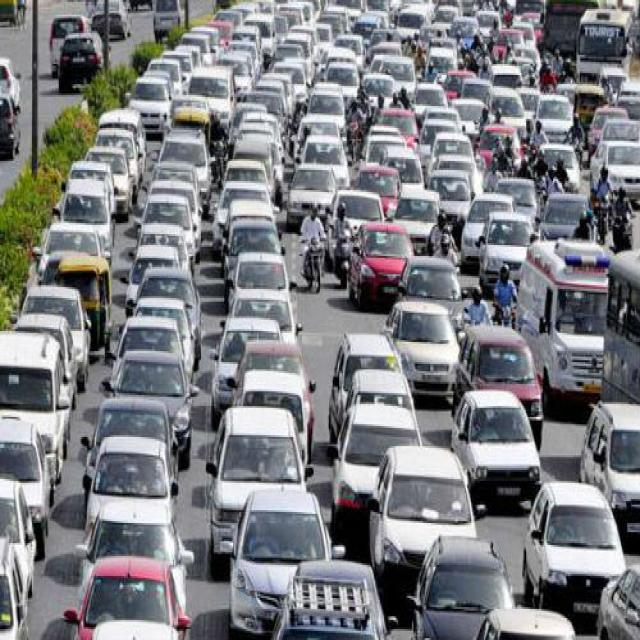autorikshaw: (54, 251, 110, 344), (174, 103, 212, 169), (212, 137, 225, 186)
car: (230, 481, 340, 638), (208, 406, 314, 553), (371, 443, 479, 581), (524, 480, 630, 619), (414, 537, 519, 640), (453, 386, 542, 502), (336, 400, 428, 510), (70, 556, 189, 640), (0, 330, 69, 467), (85, 501, 190, 590), (113, 346, 194, 459), (85, 436, 177, 524), (92, 394, 176, 484), (386, 298, 462, 394), (21, 283, 91, 385), (391, 304, 462, 391), (120, 310, 186, 402), (351, 224, 412, 302), (224, 216, 286, 290), (127, 241, 184, 313), (138, 194, 198, 262), (232, 249, 288, 321)
motorcycle: (302, 236, 328, 288), (494, 299, 516, 343), (597, 193, 613, 239), (348, 117, 362, 162), (622, 210, 634, 252)
